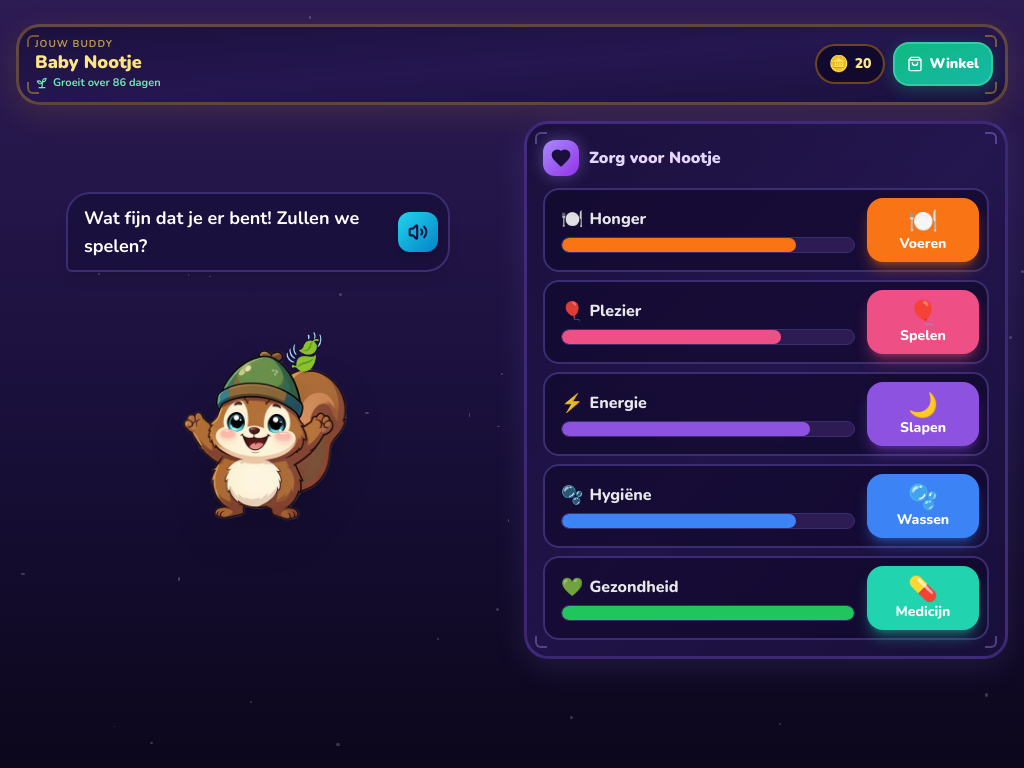
Scenario: BuddyRoom › says how many coins are missing for an item that is too expensive
Click the button "🍽️ Voeren" at (923, 230), box [867, 198, 979, 262]
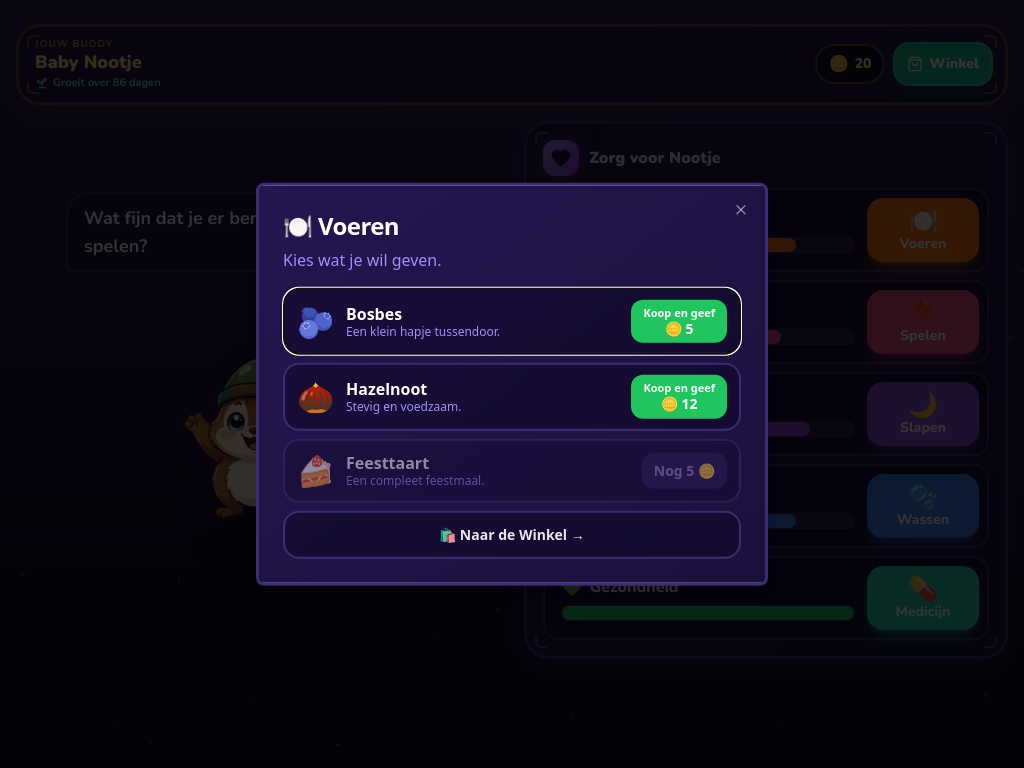
Now the button with aria-label "Feesttaart kost 25 Munten" is disabled, box [283, 438, 741, 502]
Now the button with aria-label "Feesttaart kost 25 Munten" shows "Nog 5 🪙", box [283, 438, 741, 502]
